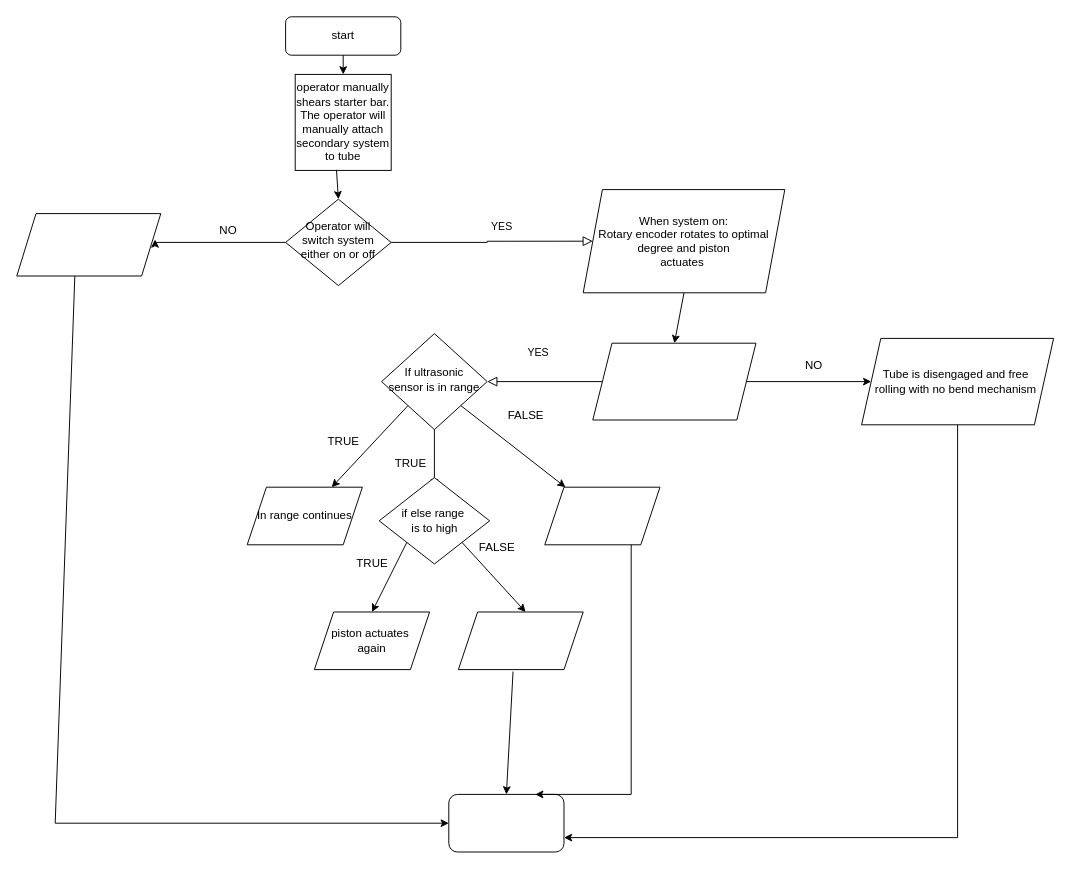
The diagram is 1070 pixels wide and 869 high, and some of its shapes have lost their labels. Each missing label, with the centre of its shape:
"Else system disenages" goes at point (602, 515).
"end" goes at point (506, 822).
"System disenages" goes at point (520, 640).
"ultrasonic then ensures it is following its optimal range" goes at point (674, 381).
"when system off: detaches from tube and away from workspace" goes at point (88, 244).
